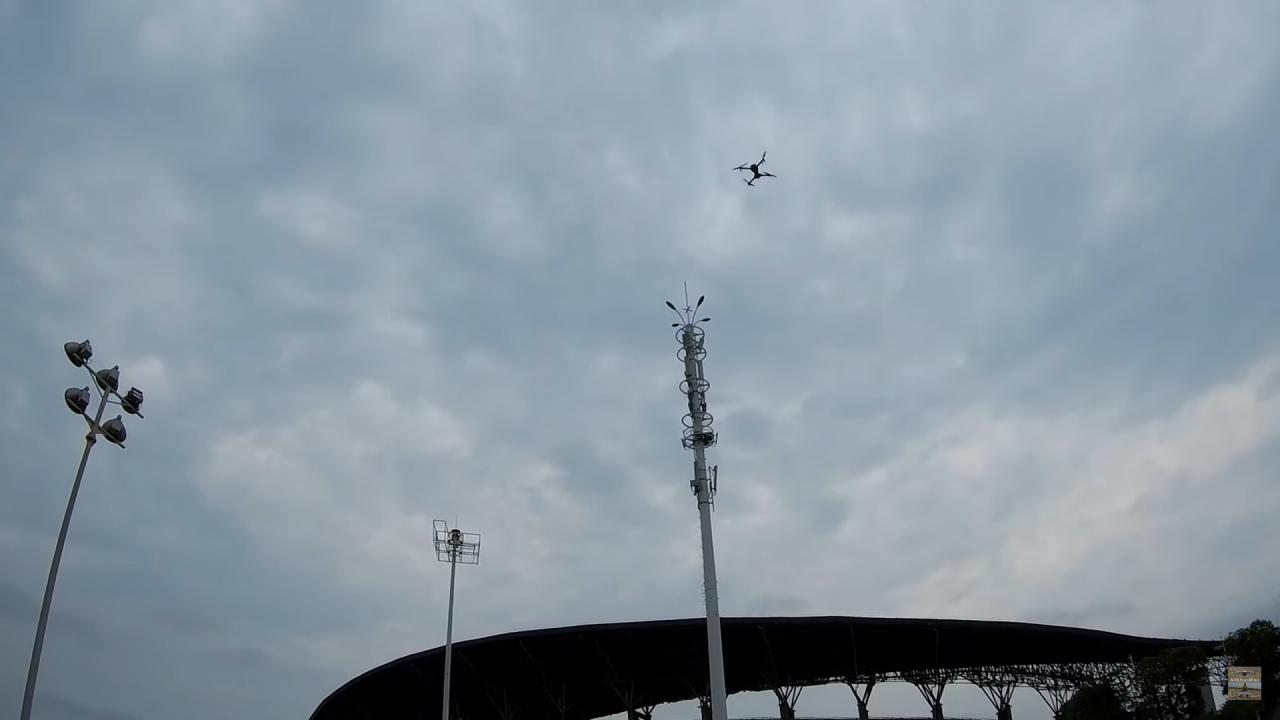Drone: (730, 146, 781, 191)
